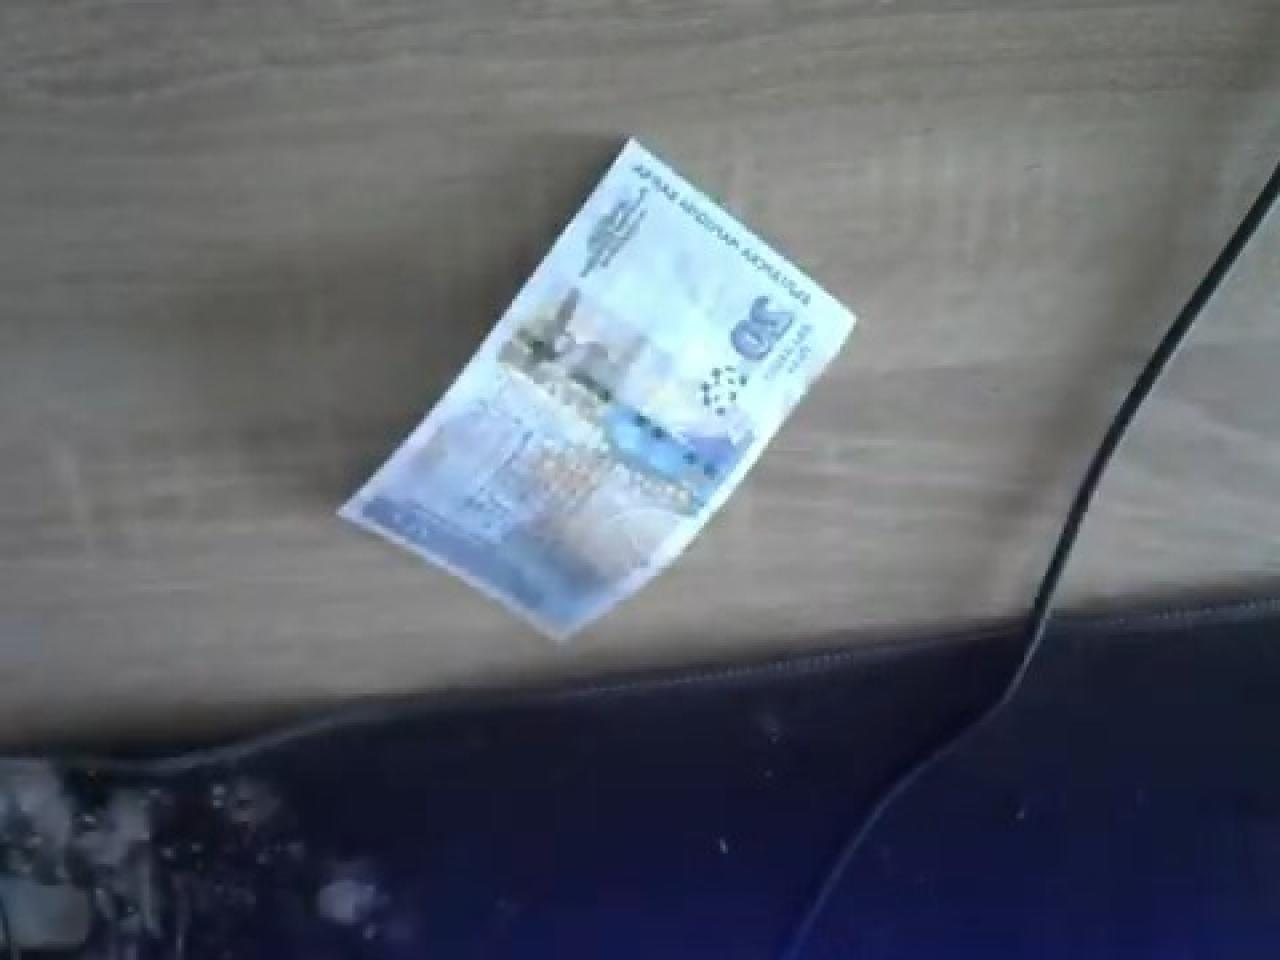20leva: (334, 136, 859, 648)
